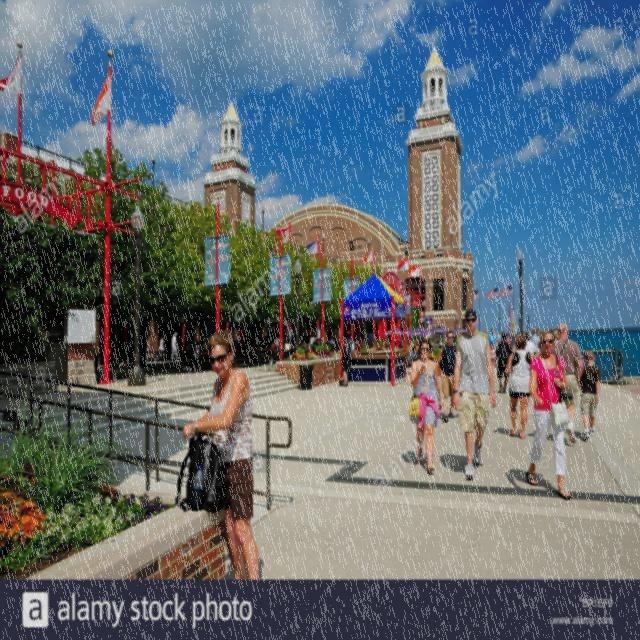pessoa: (174, 330, 260, 581), (524, 326, 572, 502), (453, 306, 498, 480), (407, 336, 442, 473), (550, 322, 584, 444), (504, 334, 534, 440), (577, 348, 601, 442), (437, 331, 458, 424), (494, 332, 514, 395), (338, 336, 355, 388), (297, 338, 338, 358), (114, 340, 136, 368), (170, 331, 180, 363), (191, 339, 204, 363), (282, 338, 294, 362), (532, 328, 541, 358), (157, 334, 165, 362), (488, 328, 498, 350), (353, 338, 367, 352), (408, 345, 417, 365), (509, 328, 516, 352), (378, 336, 390, 349), (185, 340, 192, 362), (552, 328, 560, 344), (490, 344, 496, 364), (514, 332, 520, 352), (436, 337, 444, 350), (146, 336, 152, 350), (368, 330, 374, 344), (452, 332, 458, 346), (530, 328, 536, 340), (496, 332, 502, 344), (291, 332, 296, 346), (270, 339, 276, 349), (204, 338, 208, 350), (526, 328, 533, 334), (398, 345, 403, 353), (283, 332, 289, 338), (522, 330, 526, 338), (483, 327, 486, 334), (502, 329, 504, 334), (510, 332, 512, 336)
